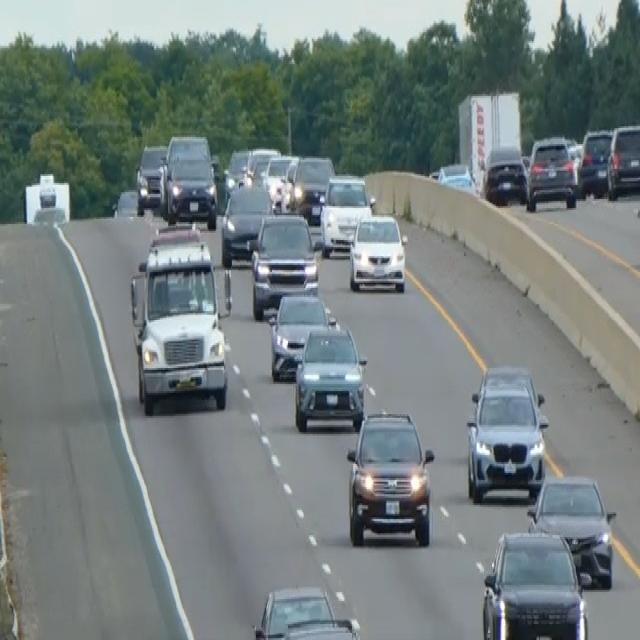car: (345, 407, 435, 548), (481, 526, 589, 638), (465, 361, 548, 503), (526, 471, 616, 589), (293, 320, 367, 432), (249, 210, 319, 318), (251, 582, 361, 638), (267, 290, 335, 380), (348, 210, 408, 293), (319, 171, 375, 256), (220, 180, 273, 266), (160, 151, 218, 228), (525, 134, 577, 212), (291, 153, 335, 222), (482, 140, 527, 204), (577, 126, 613, 198), (606, 121, 639, 199), (135, 140, 167, 210), (262, 153, 297, 210), (244, 144, 280, 185), (223, 146, 250, 197), (435, 160, 475, 194), (111, 185, 143, 219)
lorry: (127, 222, 232, 416)
